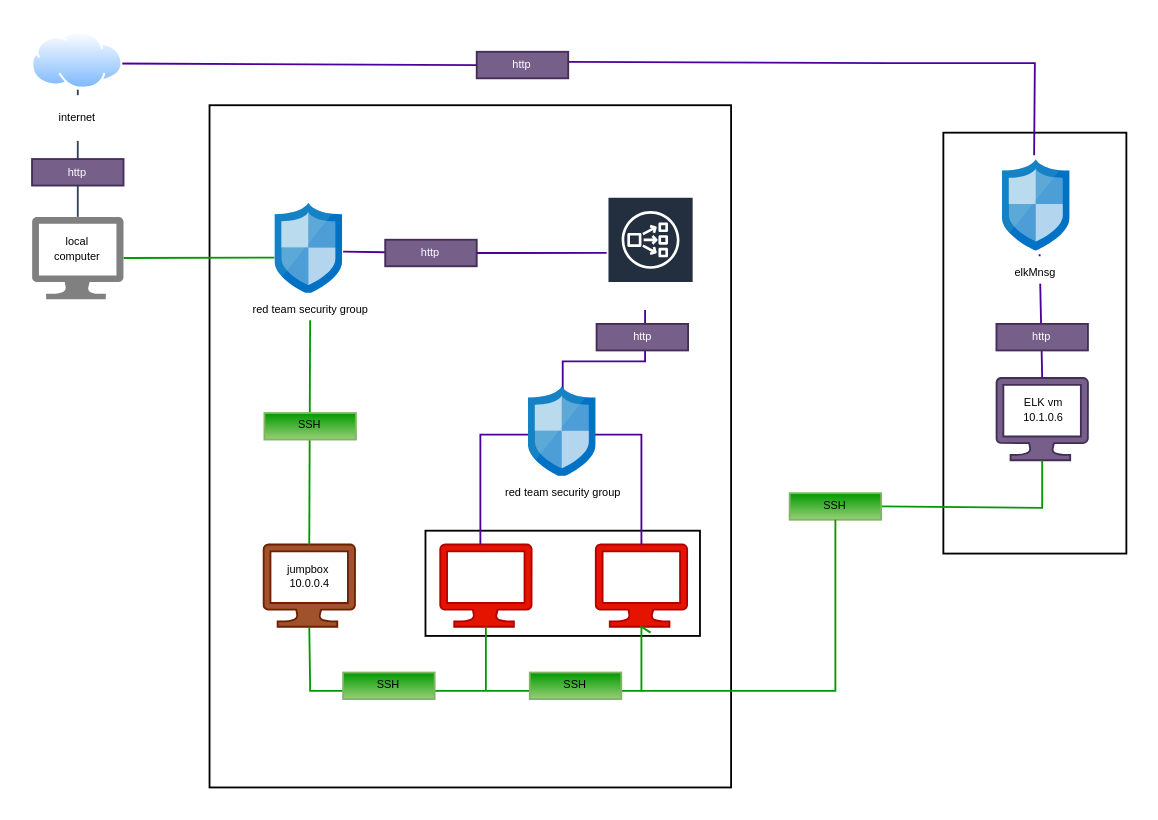
This 1158x820 diagram has some shape labels left out. The shapes that lost their labels are listed below. From the top down, each one's centre as x and y in pixels, then its label:
At [649,252]: "Load Balancer".
At [485,575]: "Web 1 10.0.0.5".
At [640,575]: "Web 2 10.0.0.6".
